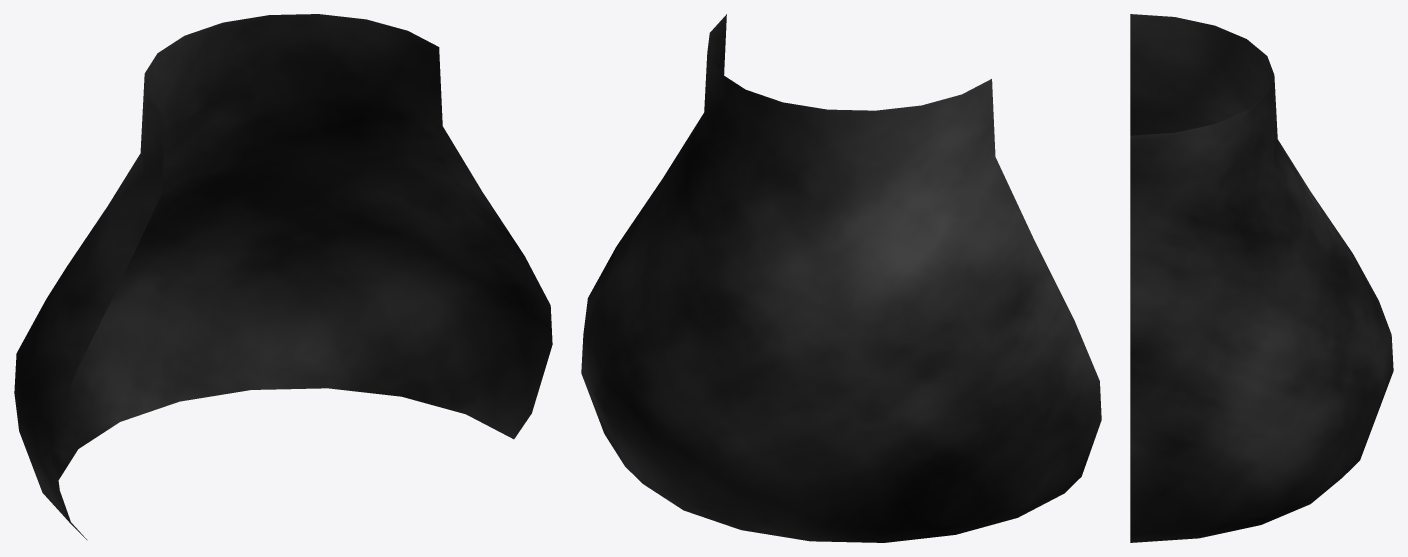
Rendered from shui6.FBX.
The picture shows the model from 3 angles, left to right: view 1: azimuth 30°, elevation 25°; view 2: azimuth 150°, elevation 25°; view 3: azimuth 270°, elevation 25°; orthographic projection. The views are drawn at different scales.
Parts seen in each view (by area): view 1: BLB1112; view 2: BLB1112; view 3: BLB1112.
Boxes of the visible parts, box(x1,y1,x2,y2) form: BLB1112: box(14, 14, 552, 540); BLB1112: box(581, 14, 1101, 542); BLB1112: box(1130, 14, 1393, 542).
Bounding box in the file's own units: 8.45 × 6.62 × 4.23.
